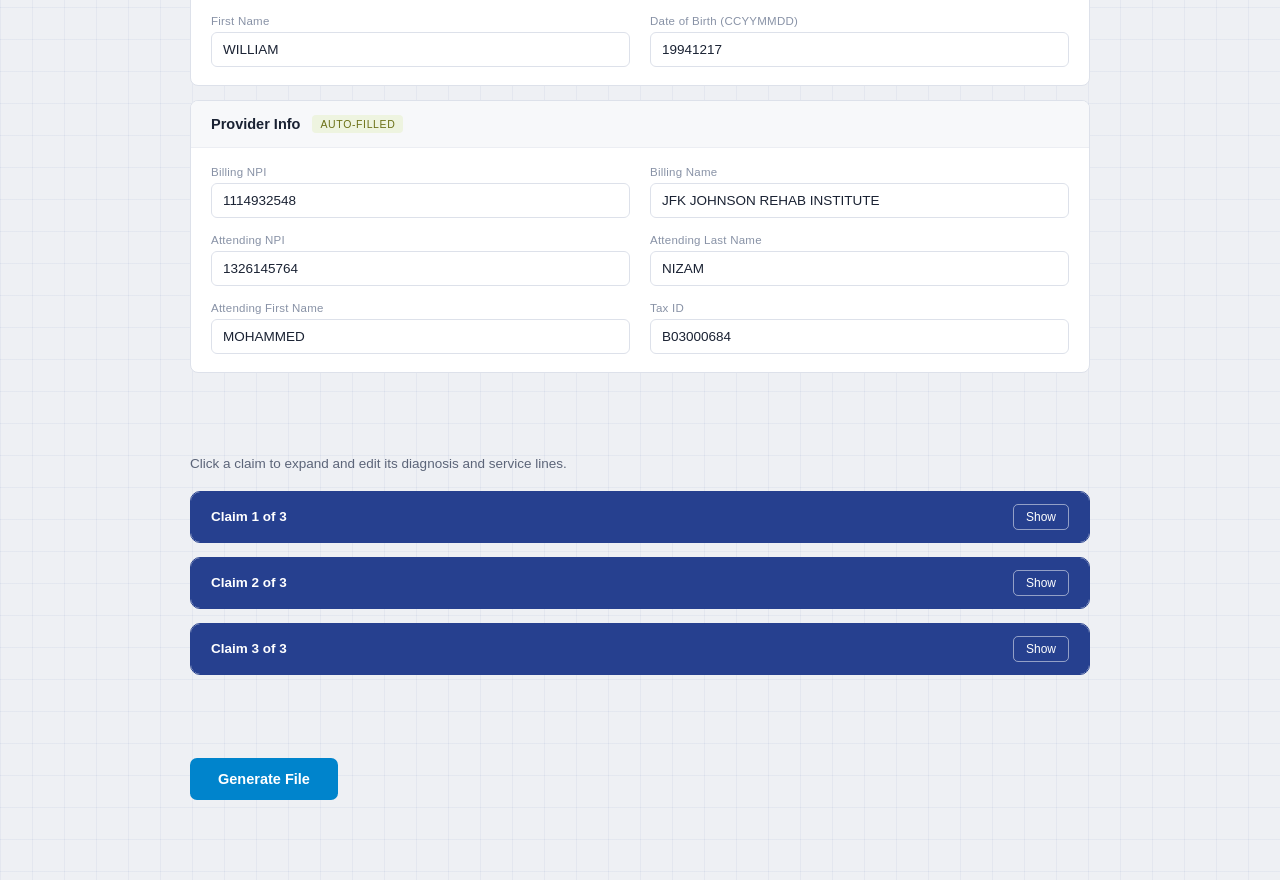
the columns the generator owns › shows 837I savings read-only and derived from the charge
(page scrolled)
Click the 1st button "Show".
click(1041, 516)  # box [1013,504,1069,530]
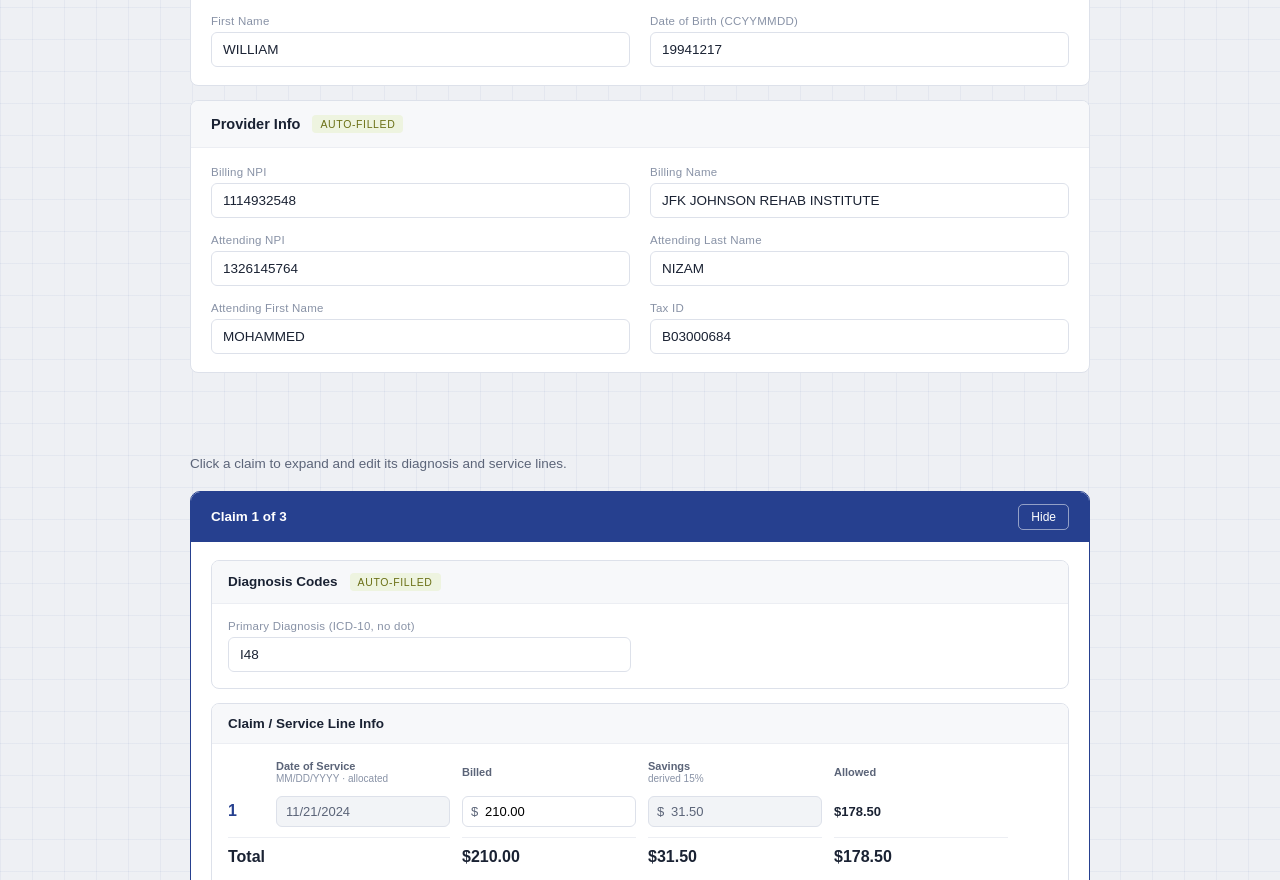
Result: the number field named "Savings, line 1" holds "31.50" at [648,796,822,826]
Replace the text in the number field named "Billed, line 1" with "100.00" at coordinates (549, 811), box [462,796,636,826]
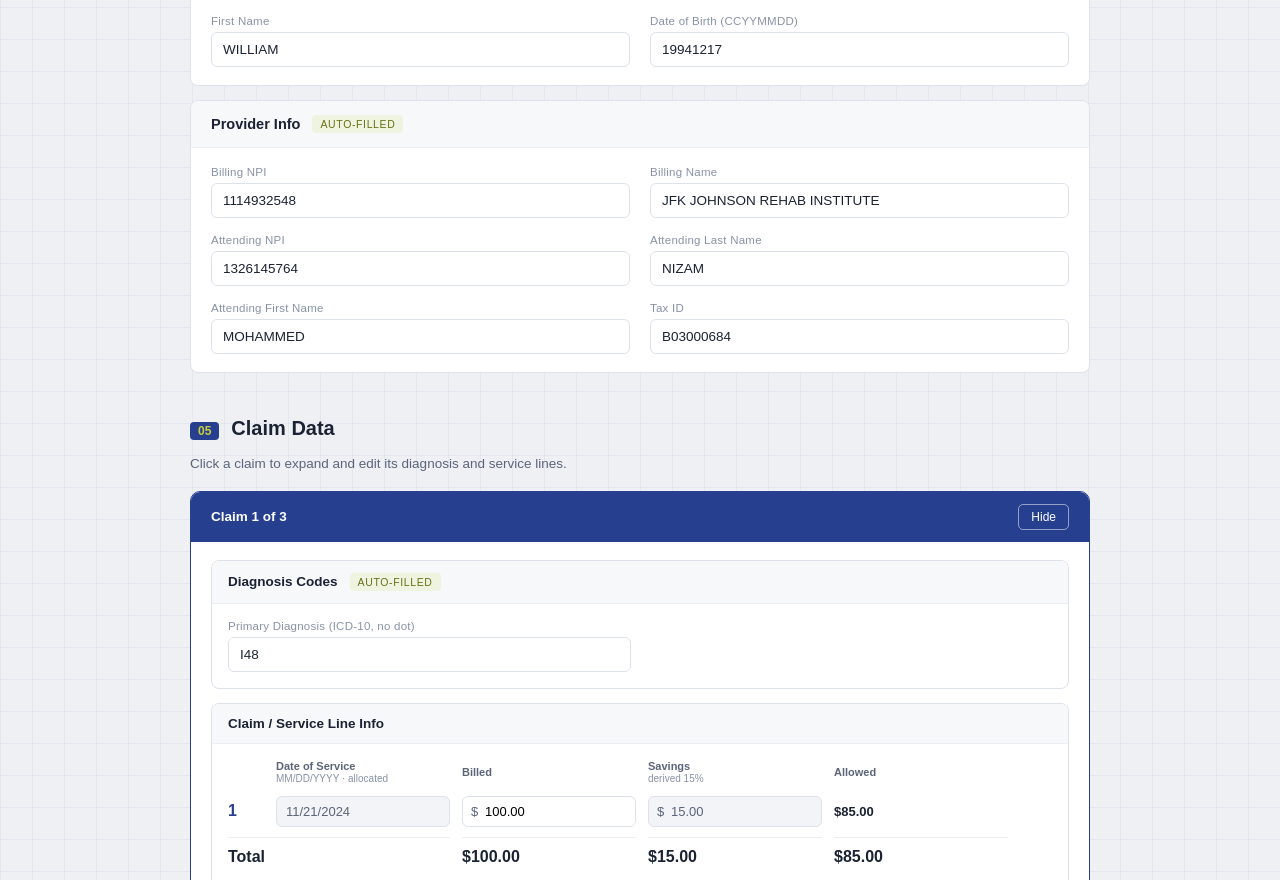
Result: the number field named "Savings, line 1" holds "15.00" at [648,796,822,826]
